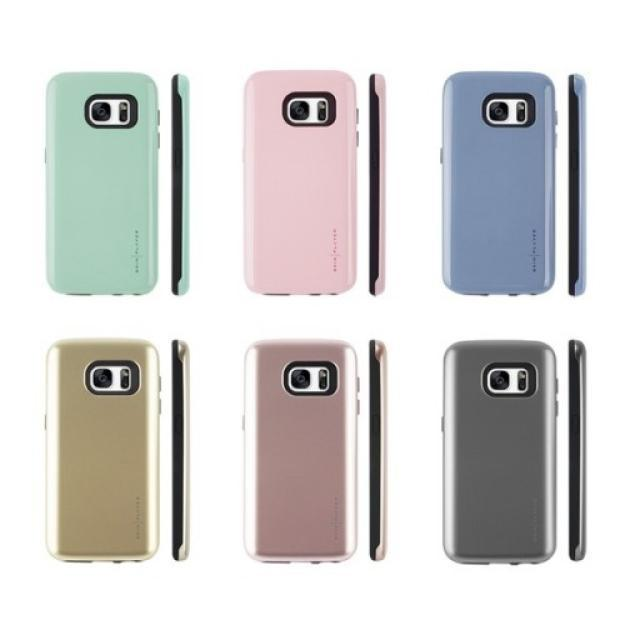phone: (240, 337, 360, 564), (440, 338, 560, 564), (440, 70, 558, 298), (43, 71, 161, 297), (44, 338, 162, 564), (244, 67, 360, 296)
